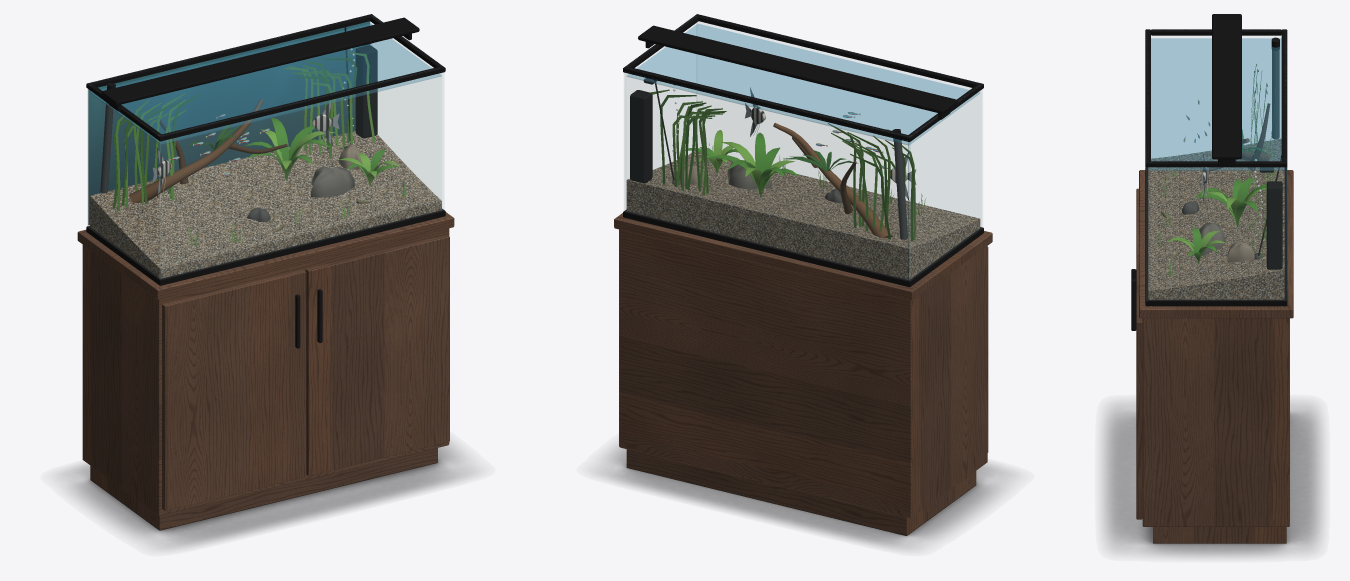
The model's file is aquarium.glb.
The picture shows the model from 3 angles, left to right: view 1: azimuth 30°, elevation 25°; view 2: azimuth 150°, elevation 25°; view 3: azimuth 270°, elevation 25°; orthographic projection. The views are drawn at different scales.
Parts seen in each view (by area): view 1: aquarium_LOD0, aquarium_Shadow; view 2: aquarium_LOD0, aquarium_Shadow; view 3: aquarium_LOD0, aquarium_Shadow.
Part boxes in pixels (box(x1,y1,x2,y2)): aquarium_LOD0: box(77, 14, 454, 530); aquarium_Shadow: box(62, 443, 472, 548); aquarium_LOD0: box(614, 14, 992, 535); aquarium_Shadow: box(598, 445, 1012, 548); aquarium_LOD0: box(1131, 14, 1293, 543); aquarium_Shadow: box(1103, 404, 1321, 556).
Size of what is drawn, in the model's own units: 1.2 by 1.24 by 0.702.
Materials: 6 (4 with a texture image).
